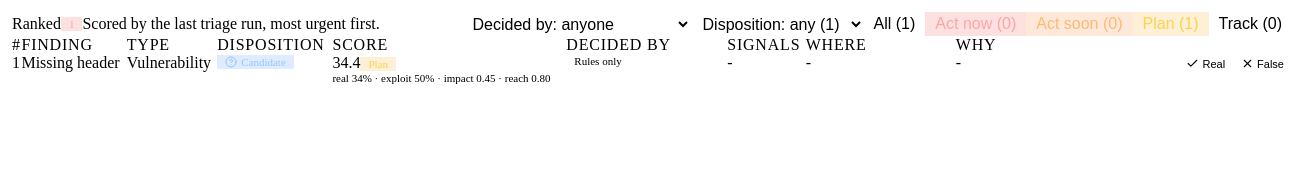
it: a verdict replaces its row in place › a refusal is shown on the row, not in a modal, and nothing reloads
Click the button titled "Mark this real" at (1206, 64), box x1=1178 y1=54 x2=1233 y2=73
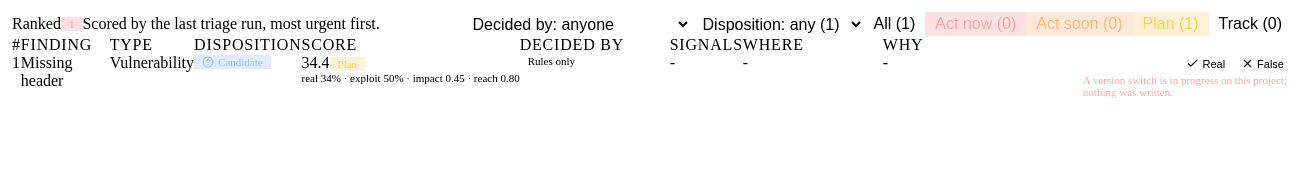
Now the message shows "A version switch is in progress", box x1=1083 y1=74 x2=1287 y2=98
